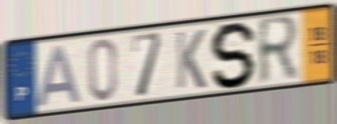0: (86, 37, 119, 103)
7: (131, 30, 163, 100)
A: (34, 43, 84, 110)
K: (174, 27, 208, 91)
R: (256, 12, 302, 89)
S: (209, 20, 260, 91)
